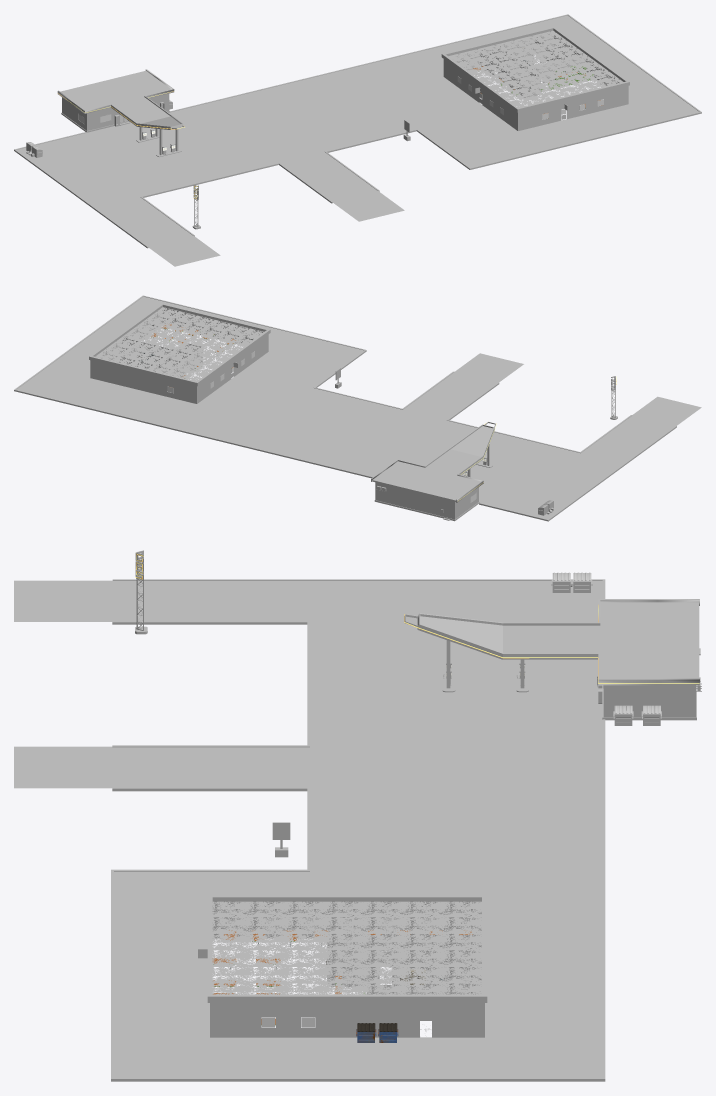
Rendered from GasAndBurger.fbx.
3 views of the same model, one above another, from view 1: azimuth 30°, elevation 25°; view 2: azimuth 150°, elevation 25°; view 3: azimuth 270°, elevation 25° (orthographic). The views are drawn at different scales.
Parts seen in each view (by area): view 1: Parking.001, BergerRoof5.002, BurgerSuper, Bordur.001, GasRoof, GasStationRoof, GasBilding, Bordur.002; view 2: Parking.001, BergerRoof5.002, BurgerSuper, Bordur.001, GasRoof, GasBilding, GasStationRoof, Bordur.002; view 3: Parking.001, BergerRoof5.002, BurgerSuper, GasRoof, Bordur.001, GasStationRoof, GasBilding, Bordur.002.
Part boxes in pixels (x1=…): Parking.001: x1=17, y1=15, x2=698, y2=266; BergerRoof5.002: x1=441, y1=26, x2=629, y2=112; BurgerSuper: x1=443, y1=32, x2=628, y2=130; Bordur.001: x1=14, y1=14, x2=701, y2=248; GasRoof: x1=57, y1=69, x2=174, y2=113; GasStationRoof: x1=111, y1=96, x2=184, y2=129; GasBilding: x1=62, y1=93, x2=169, y2=130; Bordur.002: x1=140, y1=162, x2=332, y2=236; Parking.001: x1=17, y1=296, x2=701, y2=519; BergerRoof5.002: x1=89, y1=303, x2=270, y2=386; BurgerSuper: x1=90, y1=309, x2=268, y2=403; Bordur.001: x1=14, y1=295, x2=676, y2=521; GasRoof: x1=371, y1=459, x2=483, y2=502; GasBilding: x1=375, y1=482, x2=478, y2=519; GasStationRoof: x1=425, y1=421, x2=496, y2=475; Bordur.002: x1=446, y1=382, x2=632, y2=453; Parking.001: x1=14, y1=580, x2=602, y2=1077; BergerRoof5.002: x1=207, y1=895, x2=487, y2=1002; BurgerSuper: x1=210, y1=903, x2=484, y2=1037; GasRoof: x1=598, y1=599, x2=699, y2=685; Bordur.001: x1=111, y1=579, x2=605, y2=1081; GasStationRoof: x1=404, y1=613, x2=600, y2=659; GasBilding: x1=603, y1=677, x2=701, y2=717; Bordur.002: x1=112, y1=621, x2=309, y2=747.
Size of the model in its own units: 12034 by 909 by 7001.
